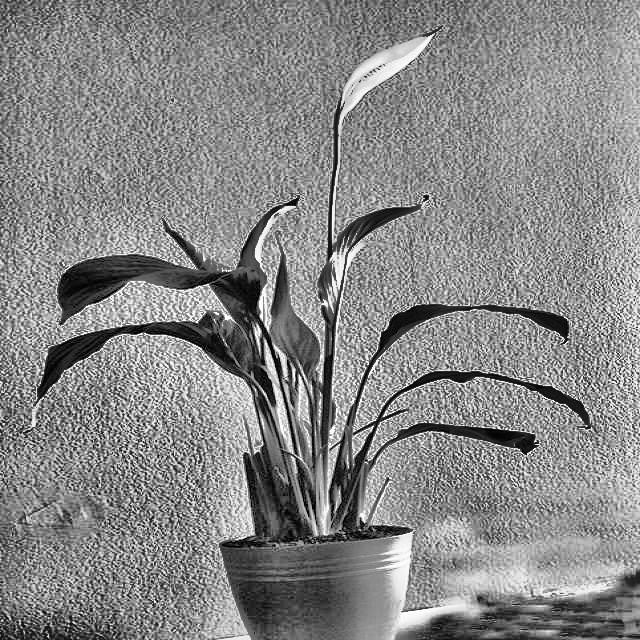plants: (18, 29, 602, 639), (37, 317, 240, 444), (382, 401, 546, 489)
